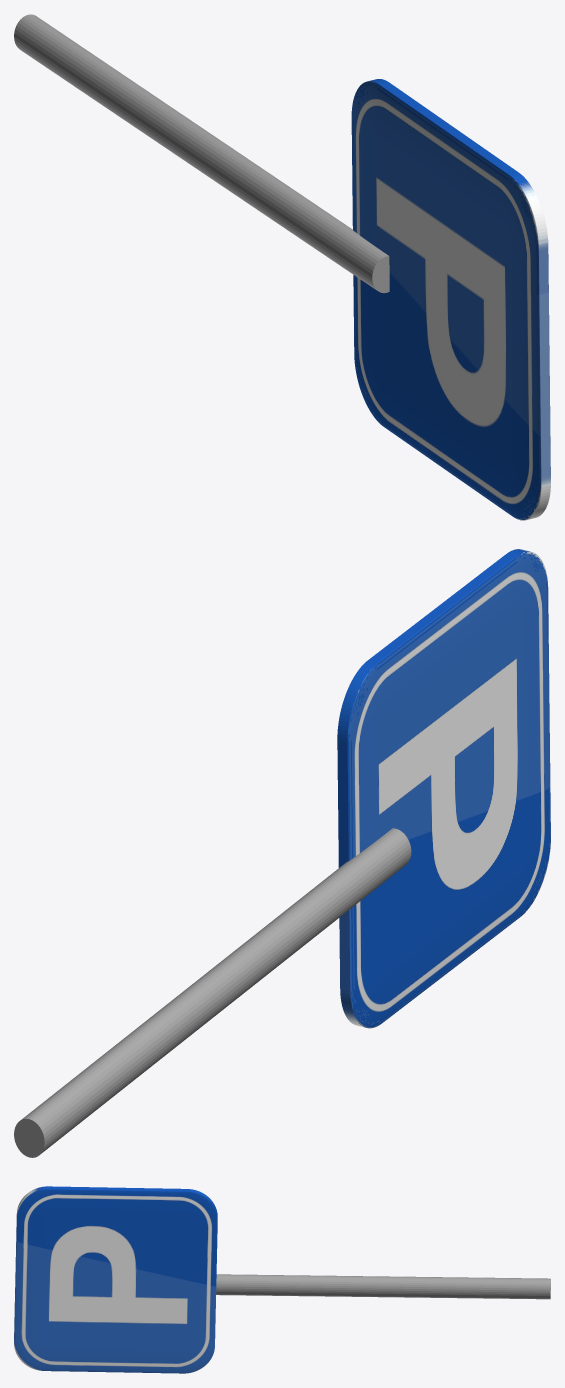
Rendered from Parking.glb.
3 views of the same model, one above another, from view 1: azimuth 30°, elevation 25°; view 2: azimuth 150°, elevation 25°; view 3: azimuth 270°, elevation 25° (orthographic). The views are drawn at different scales.
Visible parts, largest first — view 1: Cube, Cylinder; view 2: Cube, Cylinder; view 3: Cube, Cylinder.
Part boxes in pixels (x1,y1,x2,y2): Cube: [351, 79, 550, 520]; Cylinder: [14, 14, 389, 293]; Cube: [337, 549, 550, 1028]; Cylinder: [14, 828, 411, 1157]; Cube: [14, 1186, 217, 1373]; Cylinder: [216, 1274, 550, 1299].
Bounding box in the file's own units: 0.1288 × 1.08 × 2.85.
2 materials, 1 textured.
